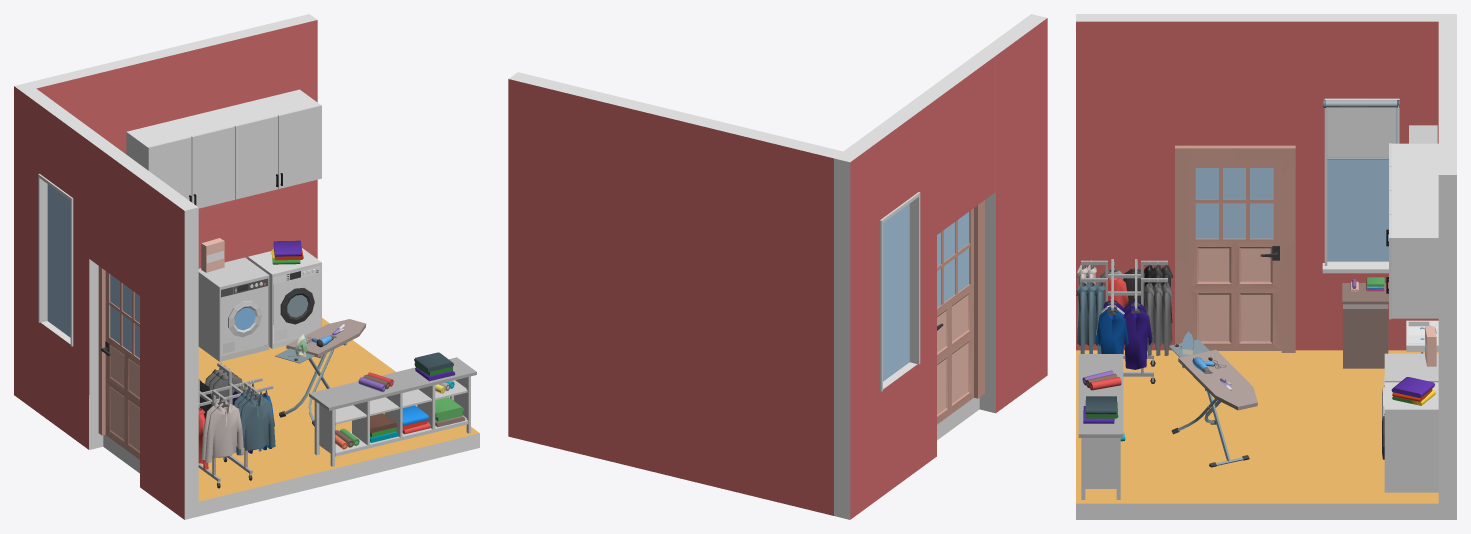
Rendered from room_15.glb.
3 renders of one model, left to right at view 1: azimuth 30°, elevation 25°; view 2: azimuth 150°, elevation 25°; view 3: azimuth 270°, elevation 25°, orthographic. The views are drawn at different scales.
Parts seen in each view (by area): view 1: Walls_133.006, Walls_133.007, Walls_010.019, kitchen_item_025.001, Walls_133.009, Walls_133.008, shelf_046.001, bathroom_item_019.001, clothes_034.001, door_025.001, Walls_133.011, window_005.008 (+10 smaller); view 2: Walls_133.006, Walls_133.007, Walls_133.008, Walls_133.009, door_025.001, window_005.008, Walls_133.011, Walls_133.010, door_026.001, Walls_133.012, Walls_010.019; view 3: Walls_010.019, Walls_133.007, Walls_133.009, door_025.001, Walls_133.006, kitchen_item_025.001, clothes_034.001, door_026.001, window_005.008, Walls_133.010, bathroom_item_011.001, Walls_133.008 (+13 smaller).
Part boxes in pixels (bbox=[...]): Walls_133.006: bbox=[28, 14, 317, 324]; Walls_133.007: bbox=[140, 175, 198, 519]; Walls_010.019: bbox=[103, 318, 479, 516]; kitchen_item_025.001: bbox=[126, 89, 321, 208]; Walls_133.009: bbox=[73, 126, 153, 295]; Walls_133.008: bbox=[14, 82, 53, 413]; shelf_046.001: bbox=[309, 357, 476, 466]; bathroom_item_019.001: bbox=[198, 238, 269, 361]; clothes_034.001: bbox=[198, 362, 275, 488]; door_025.001: bbox=[101, 271, 139, 459]; Walls_133.011: bbox=[40, 321, 103, 449]; window_005.008: bbox=[38, 173, 73, 346]; Walls_133.006: bbox=[508, 72, 842, 515]; Walls_133.007: bbox=[979, 14, 1047, 413]; Walls_133.008: bbox=[834, 136, 880, 519]; Walls_133.009: bbox=[902, 52, 995, 246]; door_025.001: bbox=[937, 208, 973, 424]; window_005.008: bbox=[880, 192, 920, 391]; Walls_133.011: bbox=[880, 350, 936, 497]; Walls_133.010: bbox=[865, 108, 918, 219]; door_026.001: bbox=[974, 200, 984, 398]; Walls_133.012: bbox=[920, 235, 936, 361]; Walls_010.019: bbox=[937, 397, 979, 440]; Walls_010.019: bbox=[1076, 350, 1438, 519]; Walls_133.007: bbox=[1076, 14, 1175, 350]; Walls_133.009: bbox=[1176, 14, 1325, 152]; door_025.001: bbox=[1189, 160, 1281, 350]; Walls_133.006: bbox=[1438, 21, 1456, 519]; kitchen_item_025.001: bbox=[1386, 143, 1438, 319]; clothes_034.001: bbox=[1076, 259, 1172, 383]; door_026.001: bbox=[1175, 145, 1295, 352]; window_005.008: bbox=[1324, 98, 1399, 265]; Walls_133.010: bbox=[1325, 14, 1397, 98]; bathroom_item_011.001: bbox=[1382, 382, 1438, 492]; Walls_133.008: bbox=[1398, 14, 1456, 350].
Bounding box in the file's own units: 4.22 × 4.2 × 4.2.
1 material, 1 textured.
